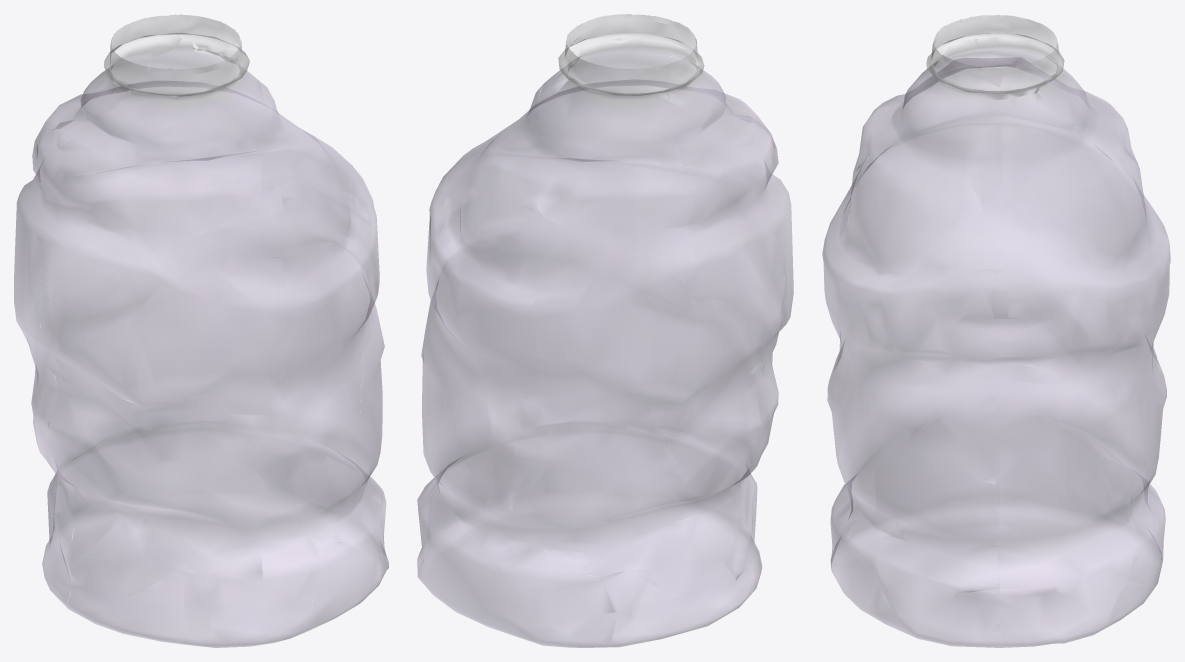
The model's file is 07_15_nj_et_prp_m_trs.glb.
3 views of the same model, side by side, from view 1: azimuth 30°, elevation 25°; view 2: azimuth 150°, elevation 25°; view 3: azimuth 270°, elevation 25° (orthographic). The views are drawn at different scales.
Parts seen in each view (by area): view 1: prp.003; view 2: prp.003; view 3: prp.003.
Boxes of the visible parts, x1=… form: prp.003: x1=14, y1=14, x2=388, y2=647; prp.003: x1=417, y1=14, x2=793, y2=647; prp.003: x1=822, y1=14, x2=1170, y2=647.
Size of the model in its own units: 0.1609 by 0.25 by 0.1508.
Materials: 1 (1 with a texture image).
